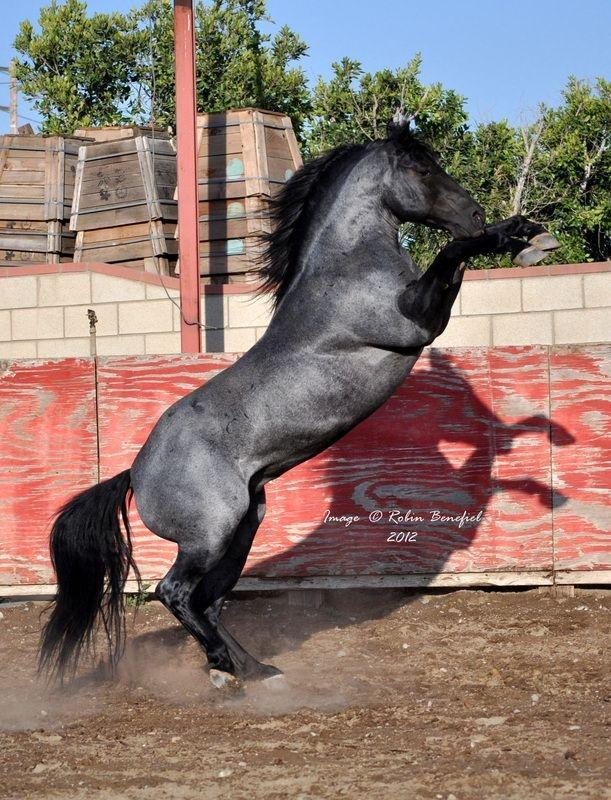horse: (33, 109, 561, 697)
